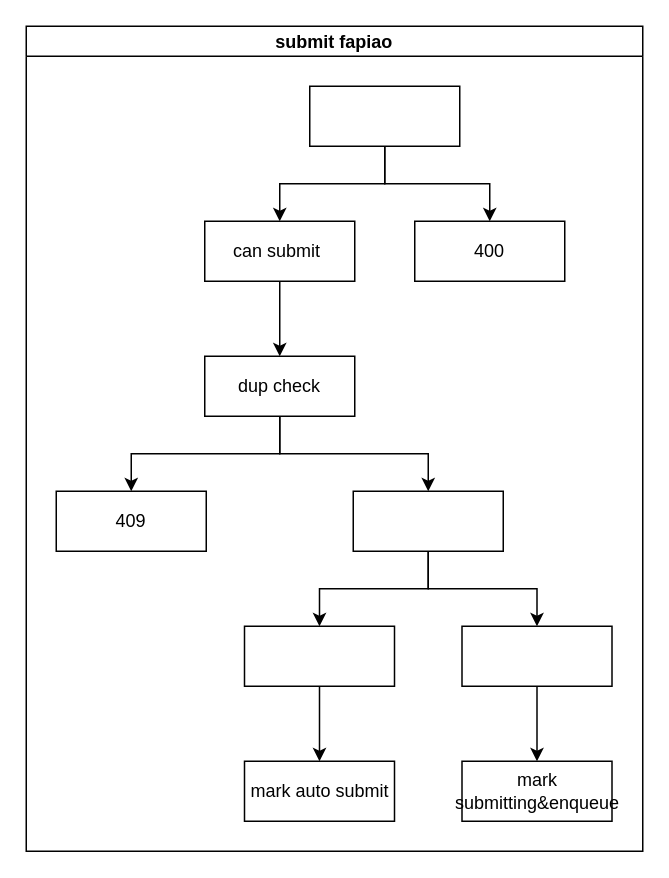
Some shapes in this 669 by 878 pixel diagram are drawn without their labels. Here are the shapes that lost their labels. From the top down, the centre of each, then its label:
pixel 384 115: http request
pixel 427 520: same day check
pixel 318 655: same day
pixel 536 655: not same day
